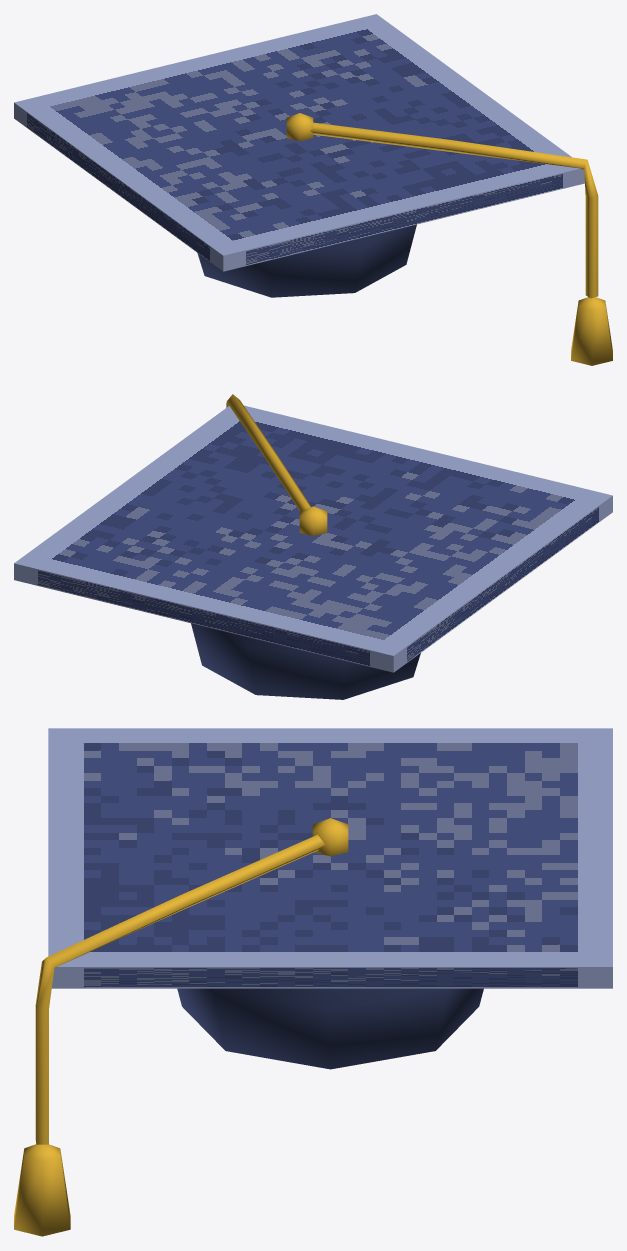
The model's file is life-graduationCap.glb.
3 views of the same model, one above another, from view 1: azimuth 30°, elevation 25°; view 2: azimuth 150°, elevation 25°; view 3: azimuth 270°, elevation 25° (orthographic). The views are drawn at different scales.
Visible parts, largest first — view 1: life.graduationCap; view 2: life.graduationCap; view 3: life.graduationCap.
Part boxes in pixels (<box>): life.graduationCap: <box>14,14,612,365</box>; life.graduationCap: <box>14,394,612,699</box>; life.graduationCap: <box>14,728,612,1236</box>.
Bounding box in the file's own units: 1.36 × 0.7051 × 1.35.
Materials: 3 (3 with a texture image).
